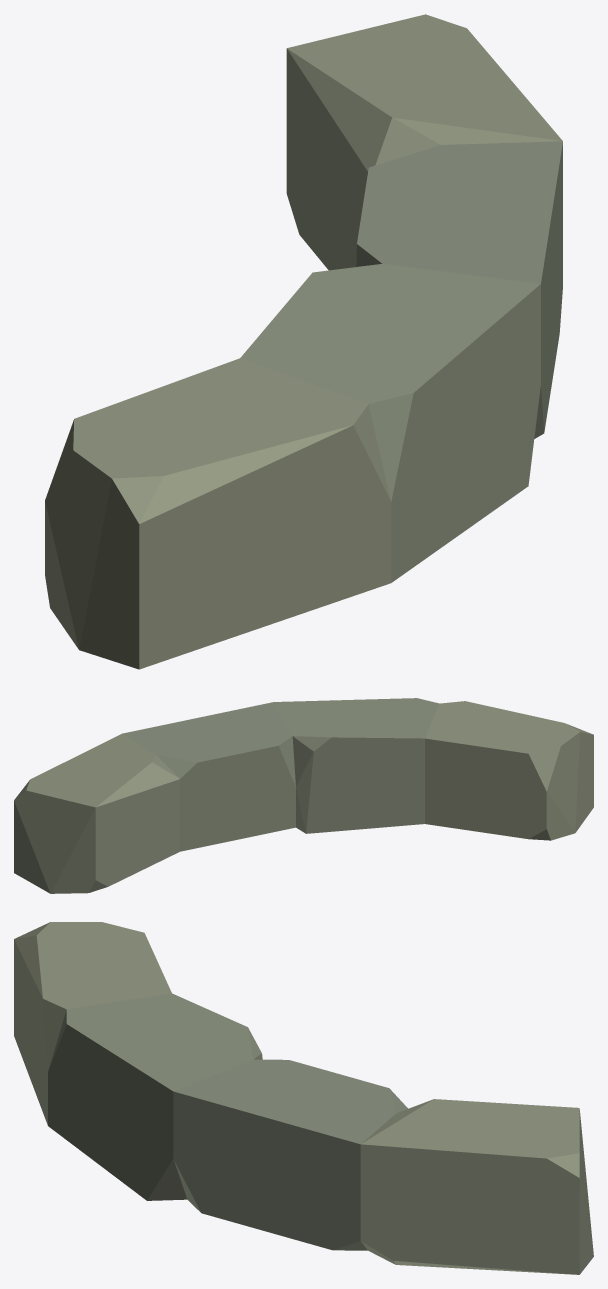
Rendered from railing_round_corner_2x2_conc_low.fbx.
3 views of the same model, one above another, from view 1: azimuth 30°, elevation 25°; view 2: azimuth 150°, elevation 25°; view 3: azimuth 270°, elevation 25° (orthographic). The views are drawn at different scales.
Parts seen in each view (by area): view 1: railing_round_corner_2x2_conc_low; view 2: railing_round_corner_2x2_conc_low; view 3: railing_round_corner_2x2_conc_low.
Part boxes in pixels (x1=…): railing_round_corner_2x2_conc_low: x1=45, y1=14, x2=562, y2=669; railing_round_corner_2x2_conc_low: x1=14, y1=698, x2=593, y2=893; railing_round_corner_2x2_conc_low: x1=14, y1=922, x2=593, y2=1274.
Size of the model in its own units: 229 by 57.52 by 231.
